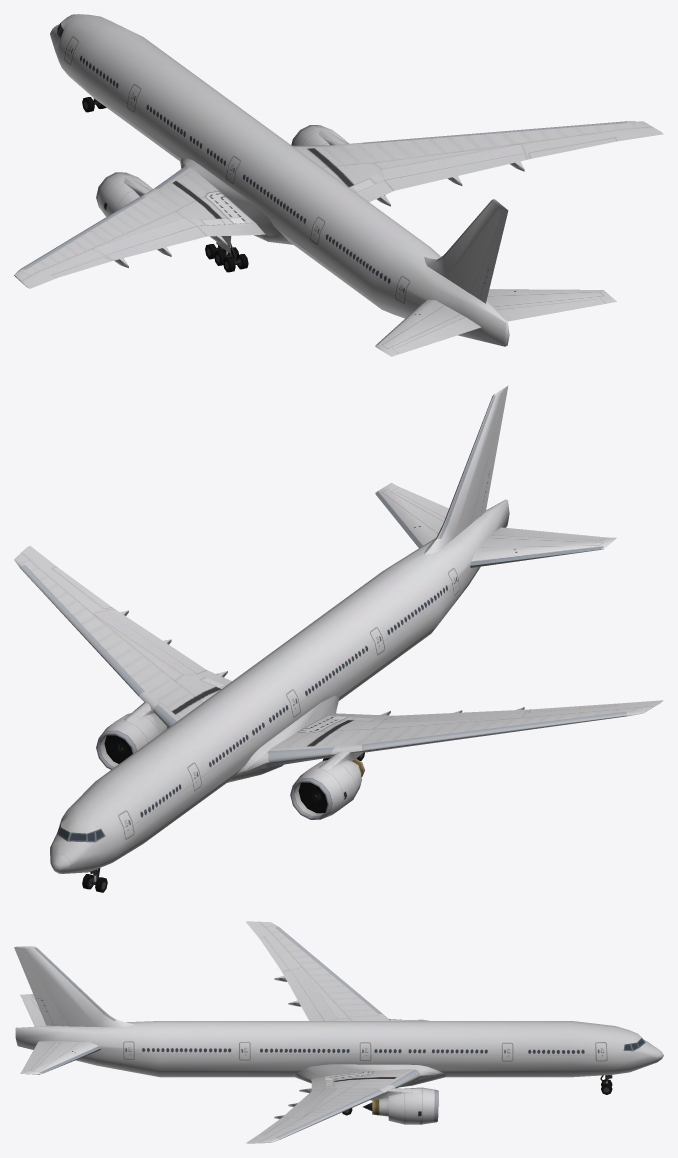
File: boeing_777-300er.glb
3 renders of one model, top to bottom at view 1: azimuth 30°, elevation 25°; view 2: azimuth 150°, elevation 25°; view 3: azimuth 270°, elevation 25°, orthographic. The views are drawn at different scales.
Visible parts, largest first — view 1: Object_4; view 2: Object_4; view 3: Object_4.
Part boxes in pixels (box(x1,y1,x2,y2)): Object_4: box(14, 14, 663, 356); Object_4: box(14, 386, 663, 892); Object_4: box(14, 921, 663, 1143).
Size of the model in its own units: 59.73 by 18.32 by 73.91.
Materials: 1 (1 with a texture image).
